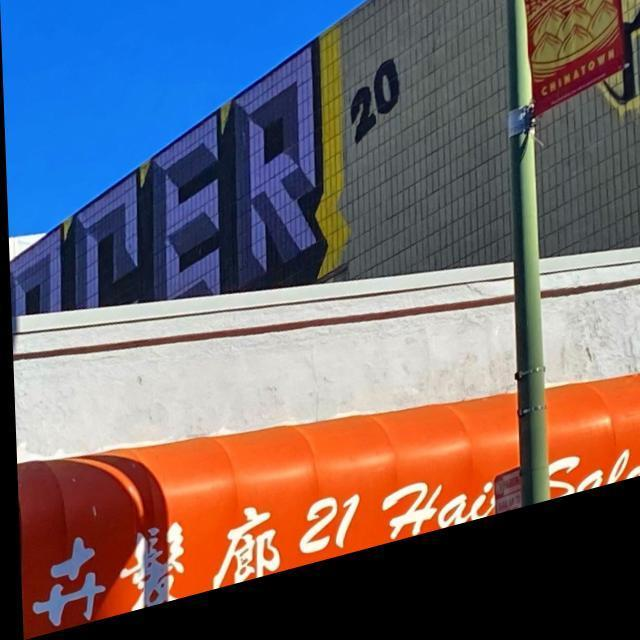-: (4, 39, 348, 366)
